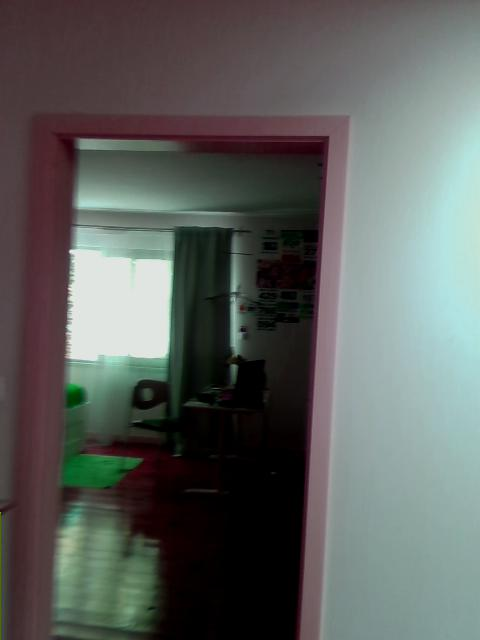open_door: (13, 111, 353, 639)
